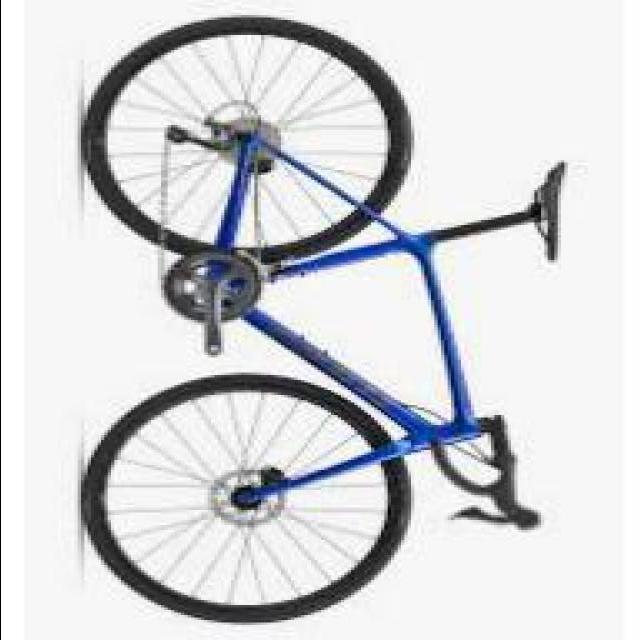bicycle: (52, 31, 578, 631)
